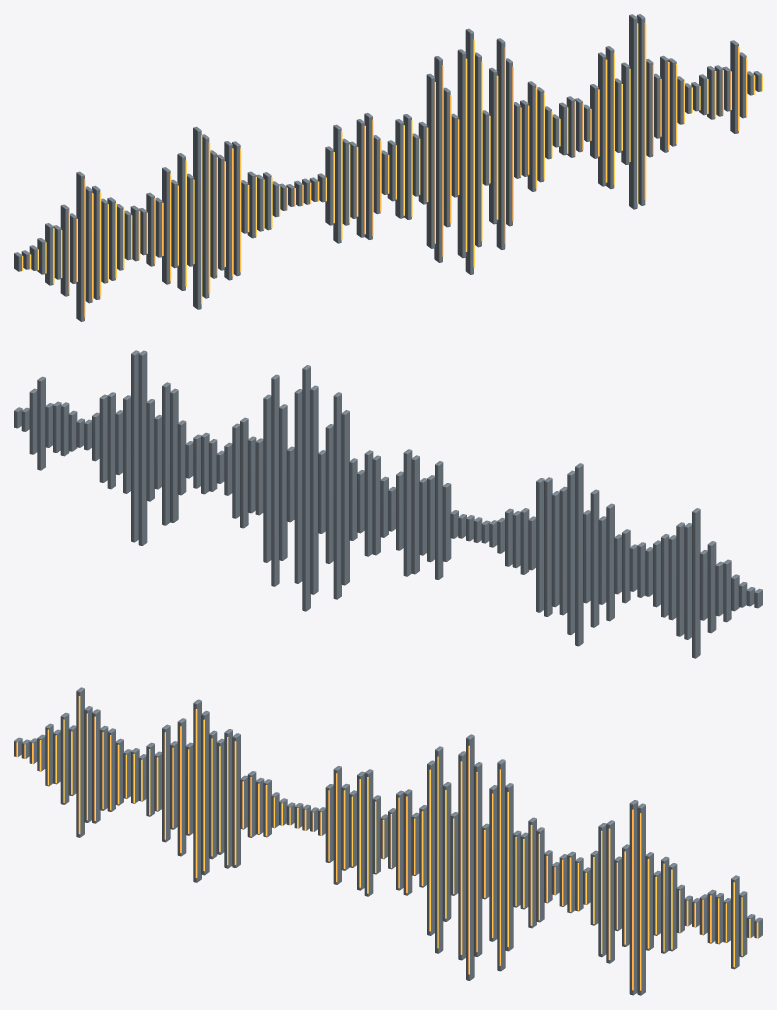
Rendered from sigz-signal.glb.
3 renders of one model, top to bottom at view 1: azimuth 30°, elevation 25°; view 2: azimuth 150°, elevation 25°; view 3: azimuth 330°, elevation 25°, orthographic.
Parts seen in each view (by area): view 1: Signal.Fin.058.Body, Signal.Fin.057.Body, Signal.Fin.062.Body, Signal.Fin.054.Body, Signal.Fin.079.Body, Signal.Fin.053.Body, Signal.Fin.023.Body, Signal.Fin.059.Body, Signal.Fin.080.Body, Signal.Fin.008.Body, Signal.Fin.061.Body, Signal.Fin.063.Body (+42 smaller); view 2: Signal.Fin.058.Body, Signal.Fin.054.Body, Signal.Fin.079.Body, Signal.Fin.057.Body, Signal.Fin.062.Body, Signal.Fin.059.Body, Signal.Fin.023.Body, Signal.Fin.080.Body, Signal.Fin.063.Body, Signal.Fin.053.Body, Signal.Fin.061.Body, Signal.Fin.024.Body (+45 smaller); view 3: Signal.Fin.059.Body, Signal.Fin.058.Body, Signal.Fin.054.Body, Signal.Fin.079.Body, Signal.Fin.080.Body, Signal.Fin.062.Body, Signal.Fin.057.Body, Signal.Fin.023.Body, Signal.Fin.063.Body, Signal.Fin.061.Body, Signal.Fin.053.Body, Signal.Fin.024.Body (+44 smaller).
Part boxes in pixels (x1,y1,x2,y2): Signal.Fin.058.Body: [465, 28, 473, 274]; Signal.Fin.057.Body: [457, 49, 466, 258]; Signal.Fin.062.Body: [496, 38, 505, 249]; Signal.Fin.054.Body: [434, 56, 442, 262]; Signal.Fin.079.Body: [629, 14, 637, 209]; Signal.Fin.053.Body: [426, 73, 435, 248]; Signal.Fin.023.Body: [193, 126, 201, 309]; Signal.Fin.059.Body: [475, 52, 481, 247]; Signal.Fin.080.Body: [636, 14, 645, 205]; Signal.Fin.008.Body: [76, 171, 84, 321]; Signal.Fin.061.Body: [489, 67, 497, 224]; Signal.Fin.063.Body: [506, 58, 512, 226]; Signal.Fin.058.Body: [302, 365, 310, 611]; Signal.Fin.054.Body: [333, 392, 341, 599]; Signal.Fin.079.Body: [138, 350, 147, 545]; Signal.Fin.057.Body: [310, 385, 318, 594]; Signal.Fin.062.Body: [271, 374, 279, 586]; Signal.Fin.059.Body: [294, 389, 302, 583]; Signal.Fin.023.Body: [575, 463, 583, 646]; Signal.Fin.080.Body: [131, 350, 139, 542]; Signal.Fin.063.Body: [263, 394, 271, 562]; Signal.Fin.053.Body: [341, 410, 349, 585]; Signal.Fin.061.Body: [279, 404, 287, 560]; Signal.Fin.024.Body: [567, 470, 574, 635]; Signal.Fin.059.Body: [473, 762, 482, 956]; Signal.Fin.058.Body: [466, 734, 474, 980]; Signal.Fin.054.Body: [435, 746, 443, 953]; Signal.Fin.079.Body: [629, 800, 638, 995]; Signal.Fin.080.Body: [637, 803, 645, 995]; Signal.Fin.062.Body: [497, 759, 505, 971]; Signal.Fin.057.Body: [458, 751, 465, 960]; Signal.Fin.023.Body: [193, 699, 201, 882]; Signal.Fin.063.Body: [505, 783, 513, 951]; Signal.Fin.061.Body: [489, 785, 497, 941]; Signal.Fin.053.Body: [427, 760, 434, 935]; Signal.Fin.024.Body: [201, 710, 209, 875].
Bounding box in the file's own units: 5.48 × 1.71 × 0.0715.
